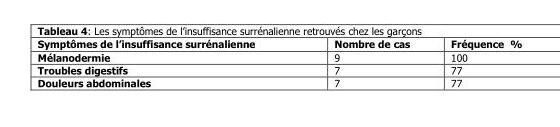table: (36, 36, 521, 88)
table column: (36, 36, 293, 88), (293, 36, 429, 88), (429, 36, 521, 88)
table column header: (36, 36, 521, 49)
table row: (36, 49, 521, 63), (36, 36, 521, 49), (36, 75, 521, 88), (36, 63, 521, 75)
